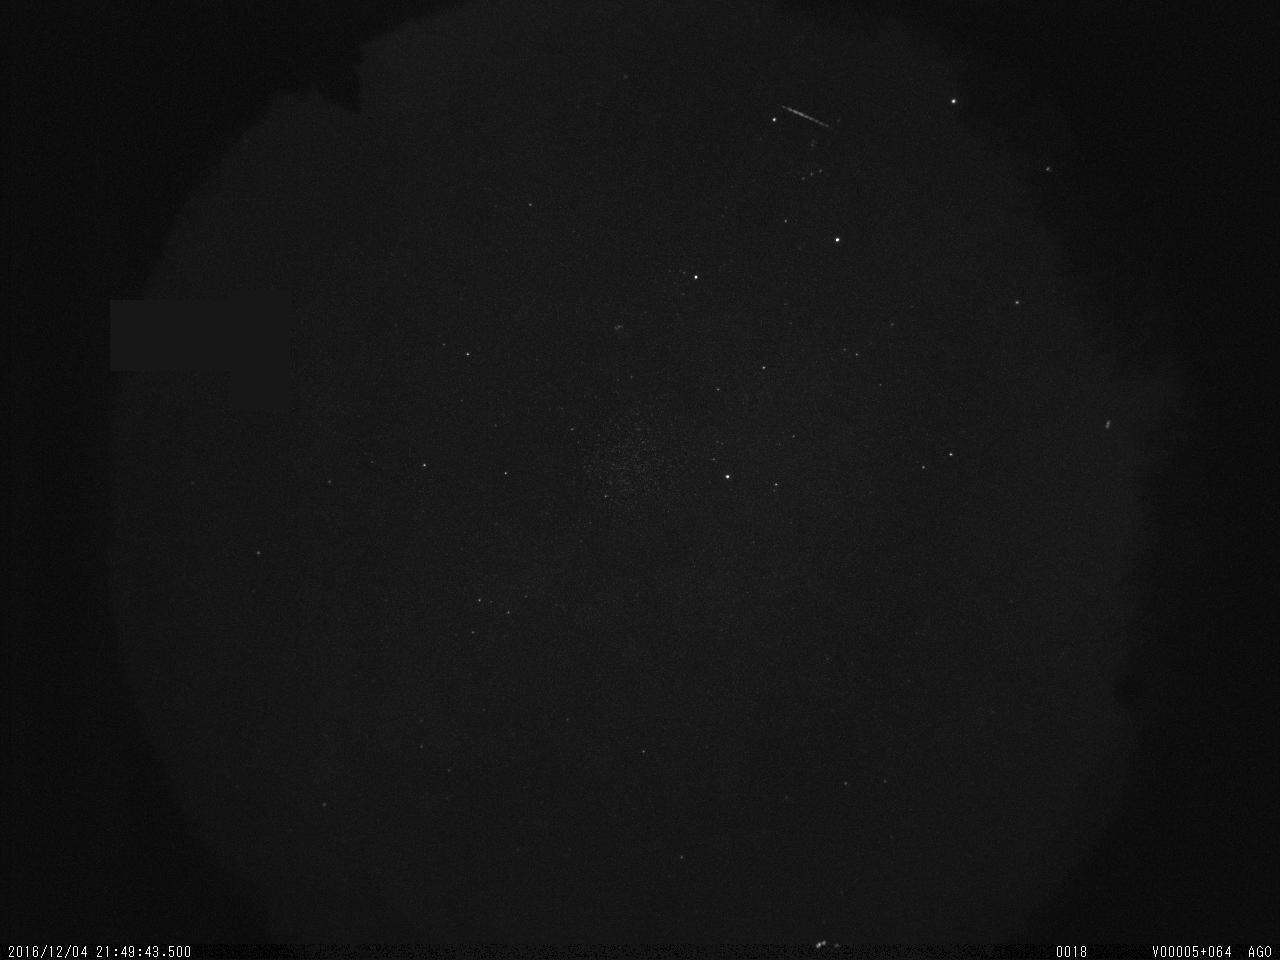Meteor: (782, 102, 833, 129)
